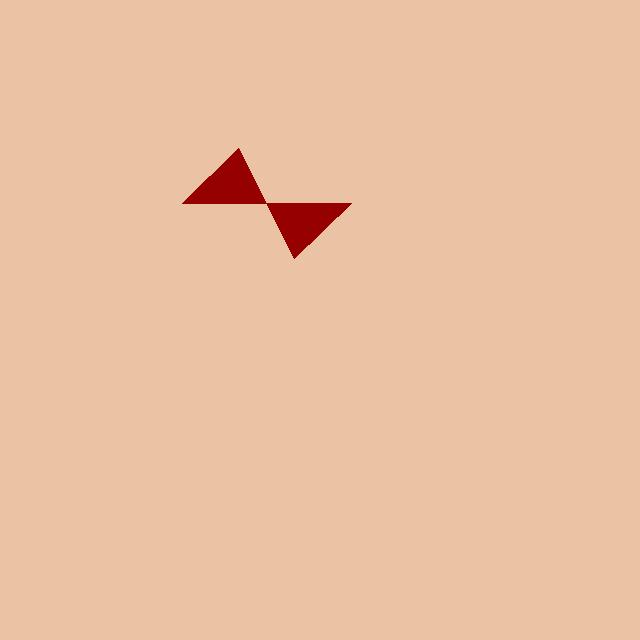laceration: (182, 148, 351, 258)
